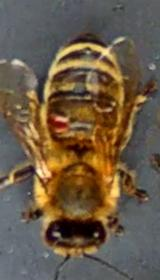varroa_mite: (40, 101, 79, 141)
